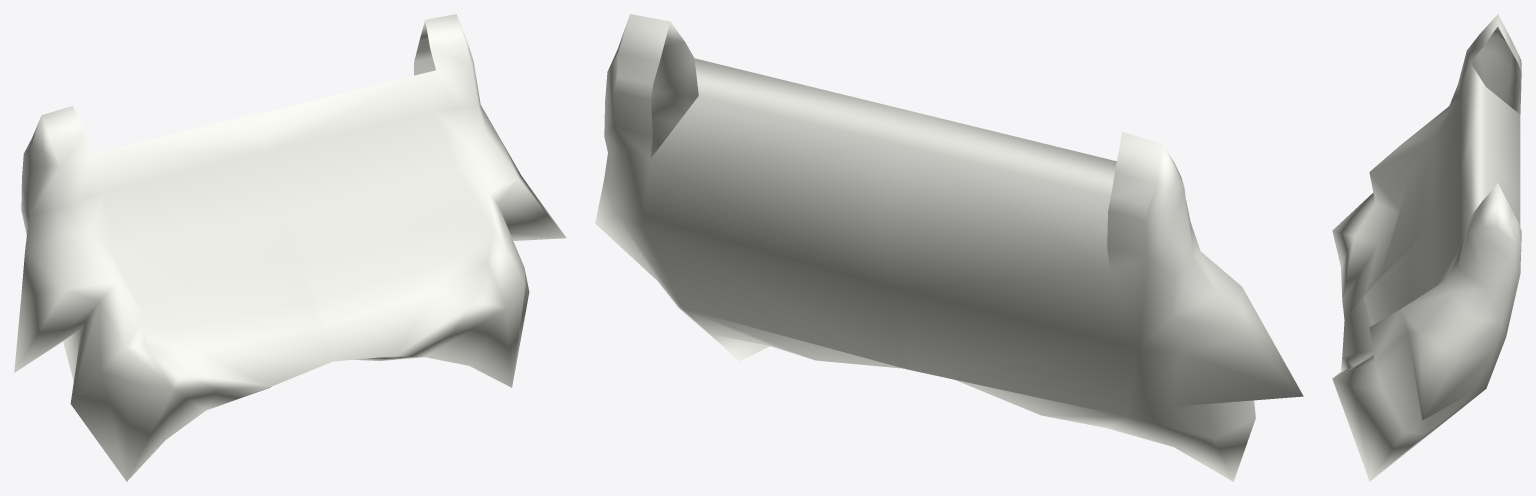
File: Beard_White_11.fbx
3 renders of one model, left to right at view 1: azimuth 30°, elevation 25°; view 2: azimuth 150°, elevation 25°; view 3: azimuth 270°, elevation 25°, orthographic. The views are drawn at different scales.
Parts seen in each view (by area): view 1: Beard_White_11; view 2: Beard_White_11; view 3: Beard_White_11.
Part boxes in pixels (bbox=[...]): Beard_White_11: bbox=[14, 14, 566, 481]; Beard_White_11: bbox=[595, 14, 1303, 481]; Beard_White_11: bbox=[1332, 14, 1521, 481].
Bounding box in the file's own units: 66 × 36.6 × 21.51.
